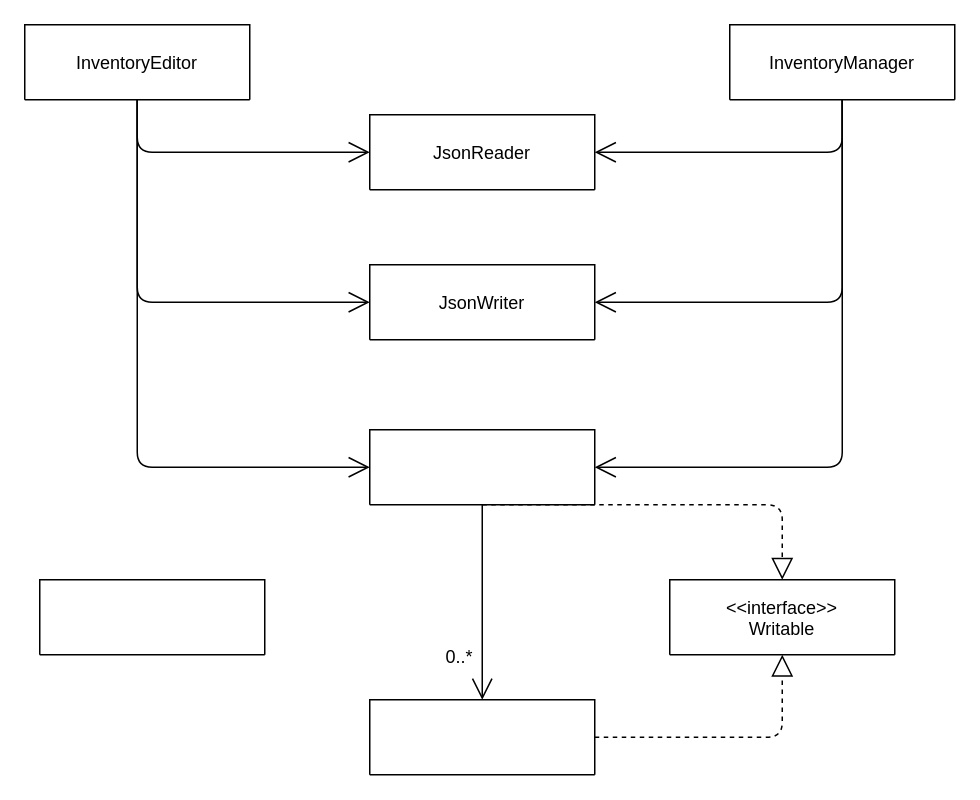
This 980x800 diagram has some shape labels left out. The centre of each missing label's shape, as x and y in pixels:
"Inventory" goes at point 481,466.
"Main" goes at point 151,616.
"Product" goes at point 481,736.
